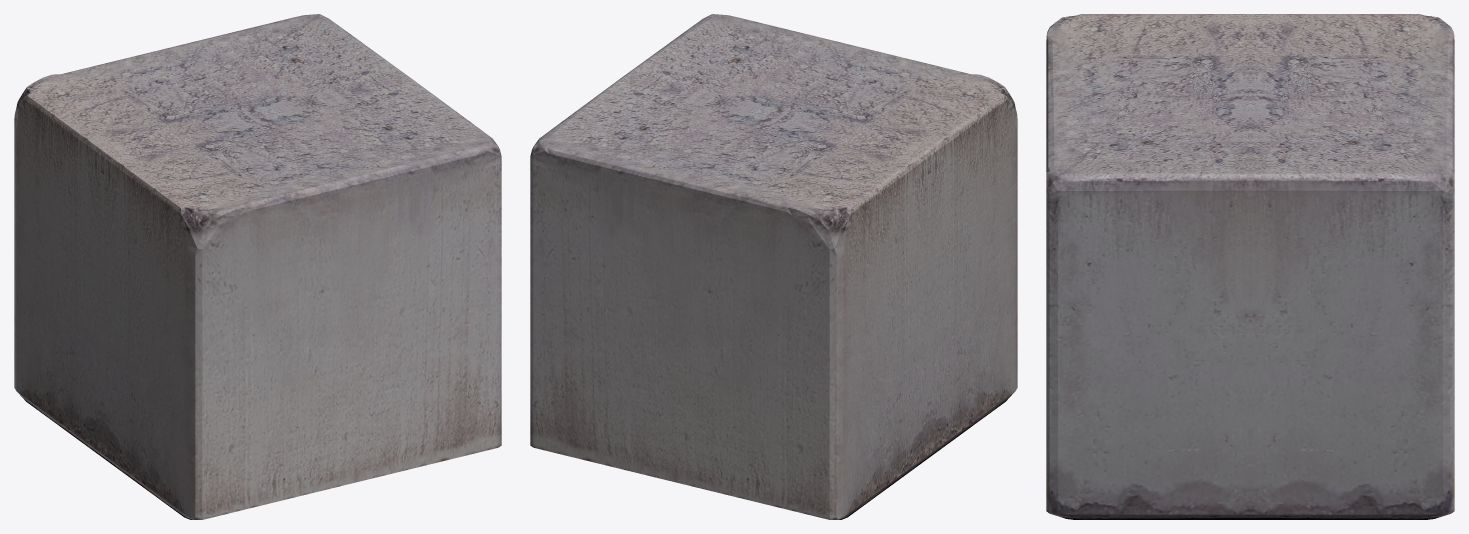
The model's file is Simple Shabby Concrete Block.fbx.
The picture shows the model from 3 angles, left to right: view 1: azimuth 30°, elevation 25°; view 2: azimuth 150°, elevation 25°; view 3: azimuth 270°, elevation 25°; orthographic projection. The views are drawn at different scales.
Parts seen in each view (by area): view 1: Block_Material_0; view 2: Block_Material_0; view 3: Block_Material_0.
Boxes of the visible parts, x1,y1,x2,y2 form: Block_Material_0: [14, 14, 501, 519]; Block_Material_0: [530, 14, 1017, 519]; Block_Material_0: [1046, 14, 1454, 519].
Size of the model in its own units: 72.83 by 69.65 by 75.03.
1 material, 1 textured.
